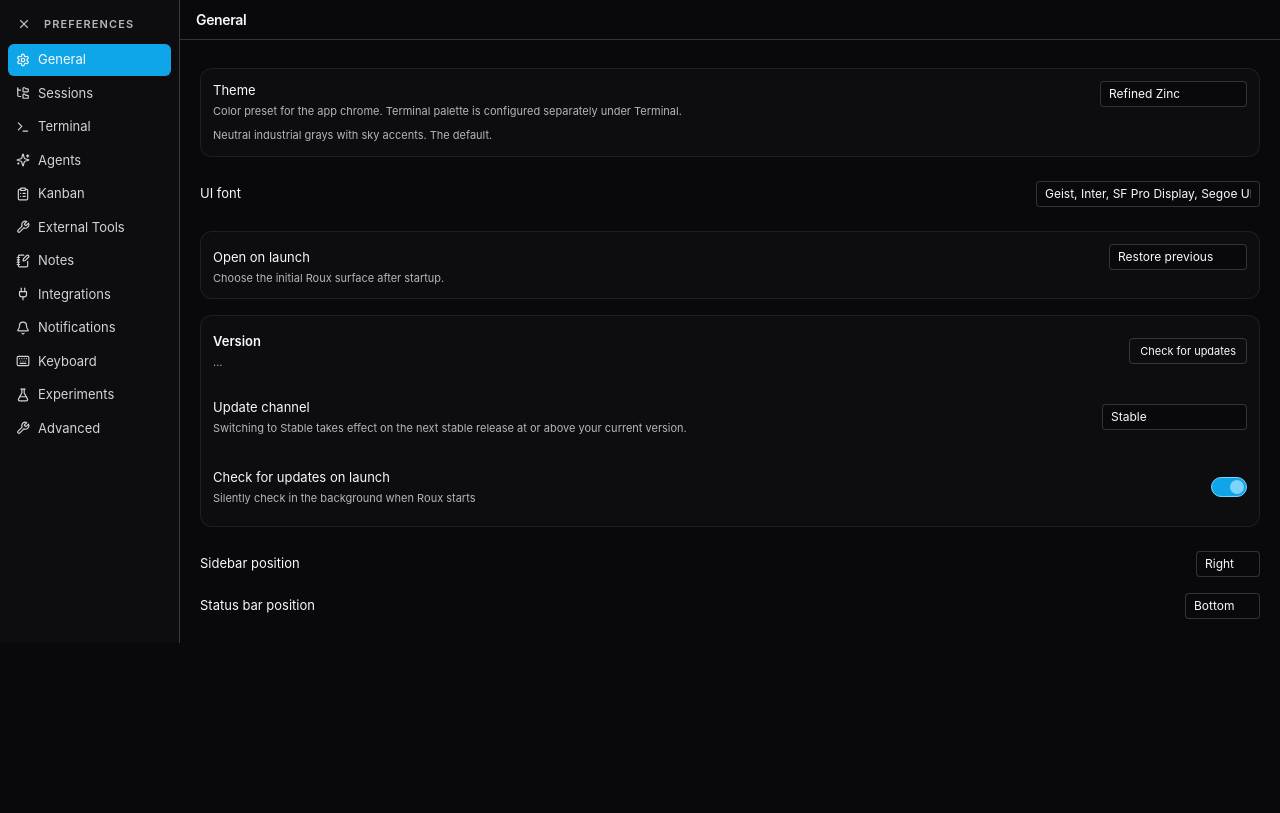
Test: SettingsPanel Kanban tab › shows workflow load errors from browsed JSON files
Click the button "Kanban" at (90, 194), box [8, 178, 171, 210]
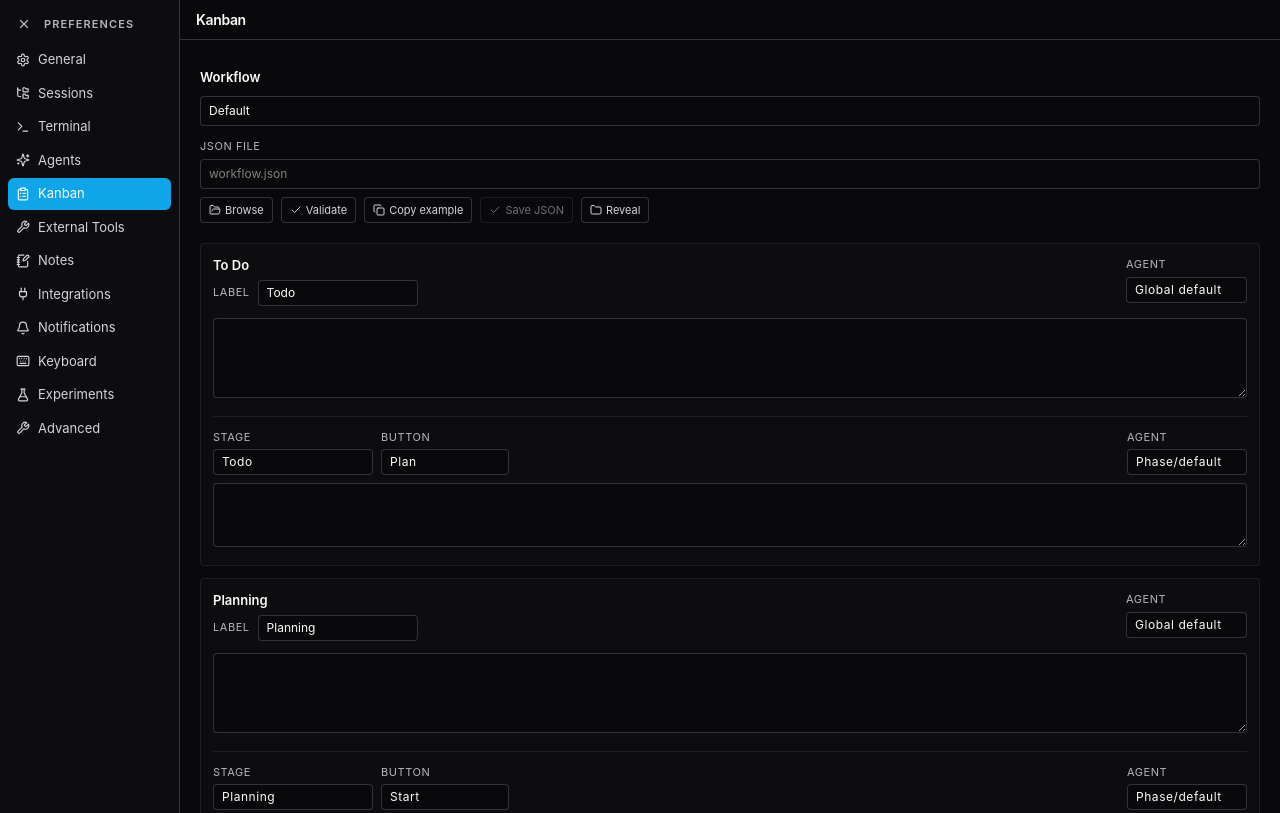
Click the button "Browse" at (236, 210), box [200, 196, 273, 223]
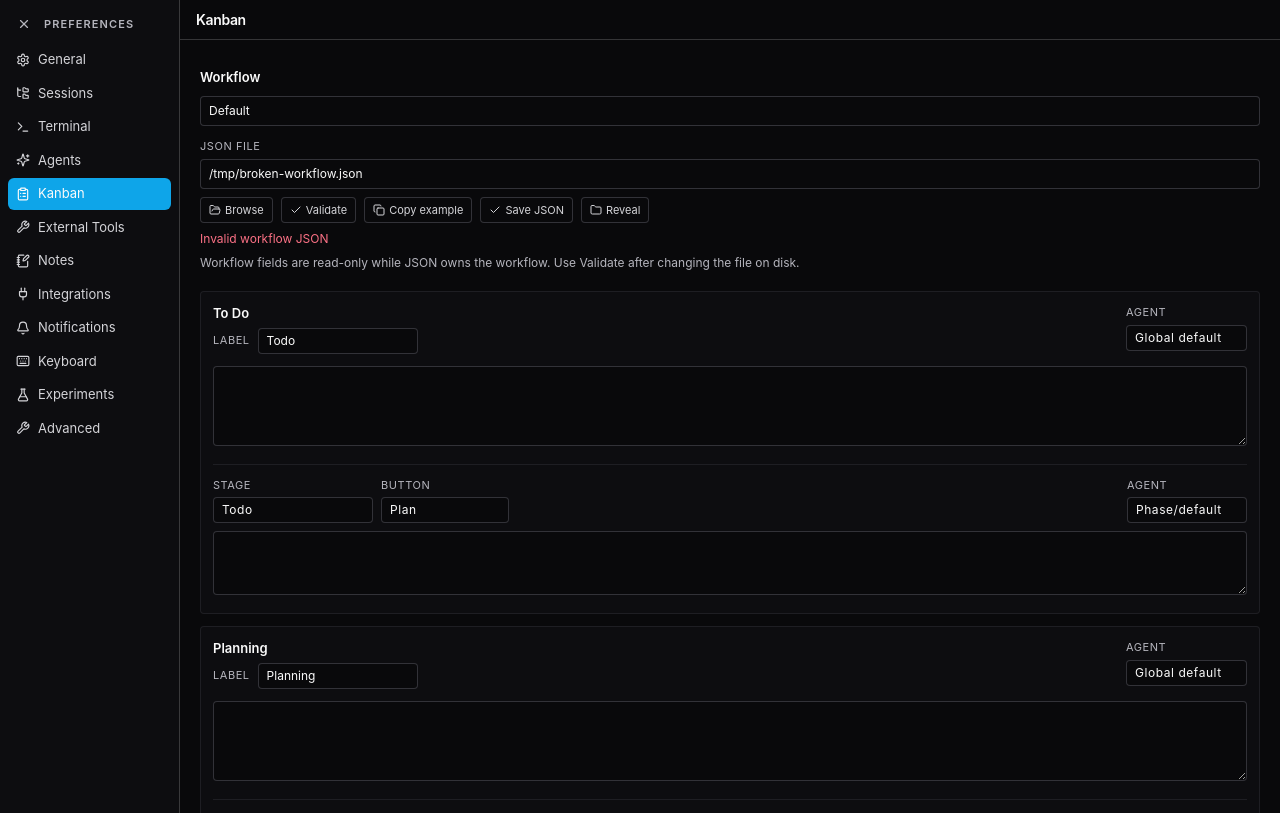
Expected: the text "Invalid workflow JSON" is shown, [200, 231, 328, 246]
